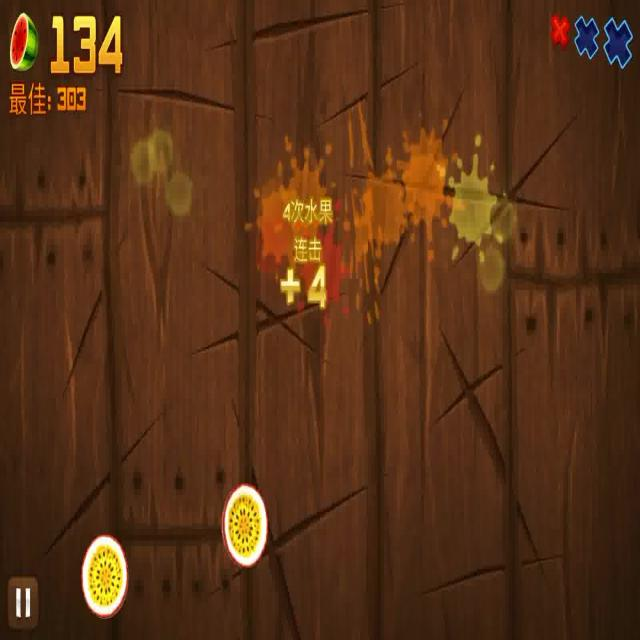fruit: (220, 482, 268, 570), (81, 534, 128, 618)
